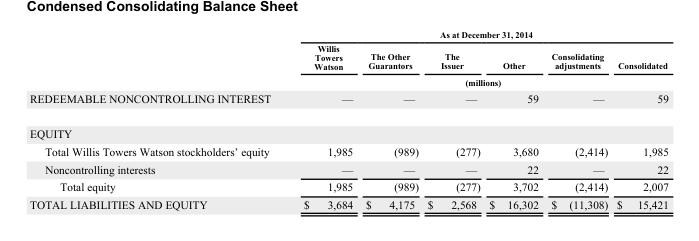table: (29, 28, 667, 210)
table column: (29, 28, 286, 210), (286, 28, 358, 210), (544, 28, 611, 210), (358, 28, 422, 210), (422, 28, 484, 210), (484, 28, 544, 210), (611, 28, 667, 210)
table column header: (29, 28, 667, 89)
table projected row header: (29, 115, 667, 142)
table row: (29, 40, 667, 73), (29, 115, 667, 142), (29, 89, 667, 115), (29, 159, 667, 177), (29, 177, 667, 195), (29, 142, 667, 159), (29, 73, 667, 89), (29, 195, 667, 210), (29, 28, 667, 40)
table spanning cell: (286, 28, 667, 40), (286, 40, 358, 89), (544, 40, 611, 89), (358, 40, 422, 89), (611, 40, 667, 89), (422, 73, 544, 89)
